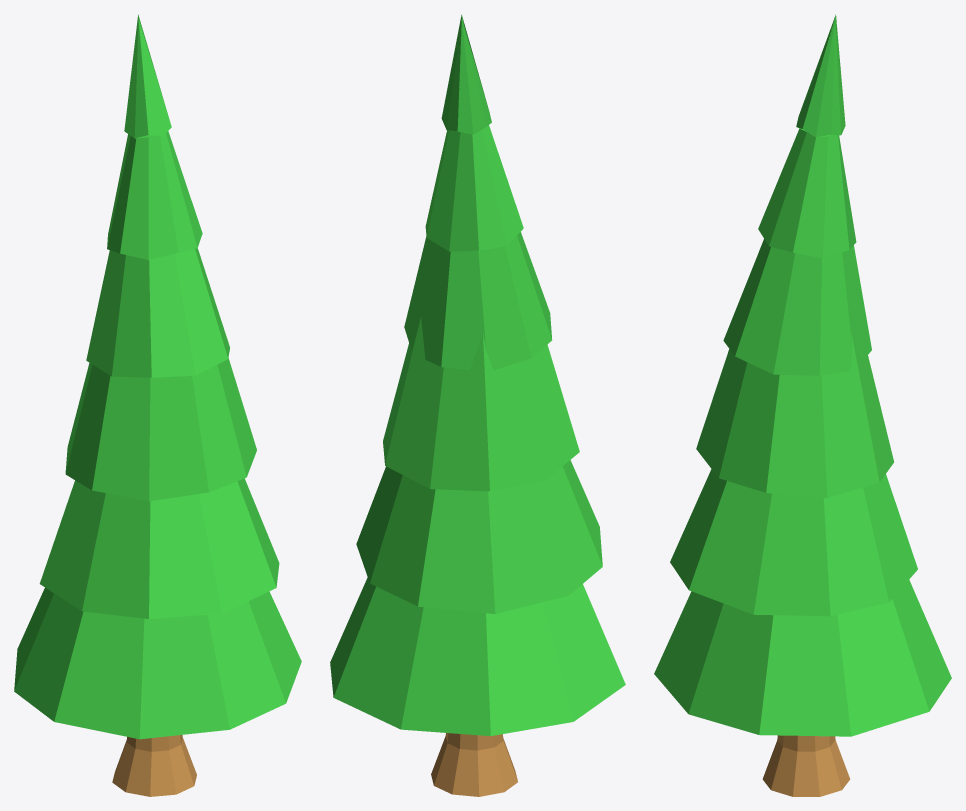
The model's file is bükülmüş ağaç.fbx.
3 views of the same model, side by side, from view 1: azimuth 30°, elevation 25°; view 2: azimuth 150°, elevation 25°; view 3: azimuth 270°, elevation 25° (orthographic). The views are drawn at different scales.
Visible parts, largest first — view 1: Cylinder; view 2: Cylinder; view 3: Cylinder.
Part boxes in pixels (x1,y1,x2,y2): Cylinder: (14, 14, 301, 796); Cylinder: (330, 14, 625, 796); Cylinder: (654, 14, 951, 796).
Size of the model in its own units: 453 by 1319 by 466.
